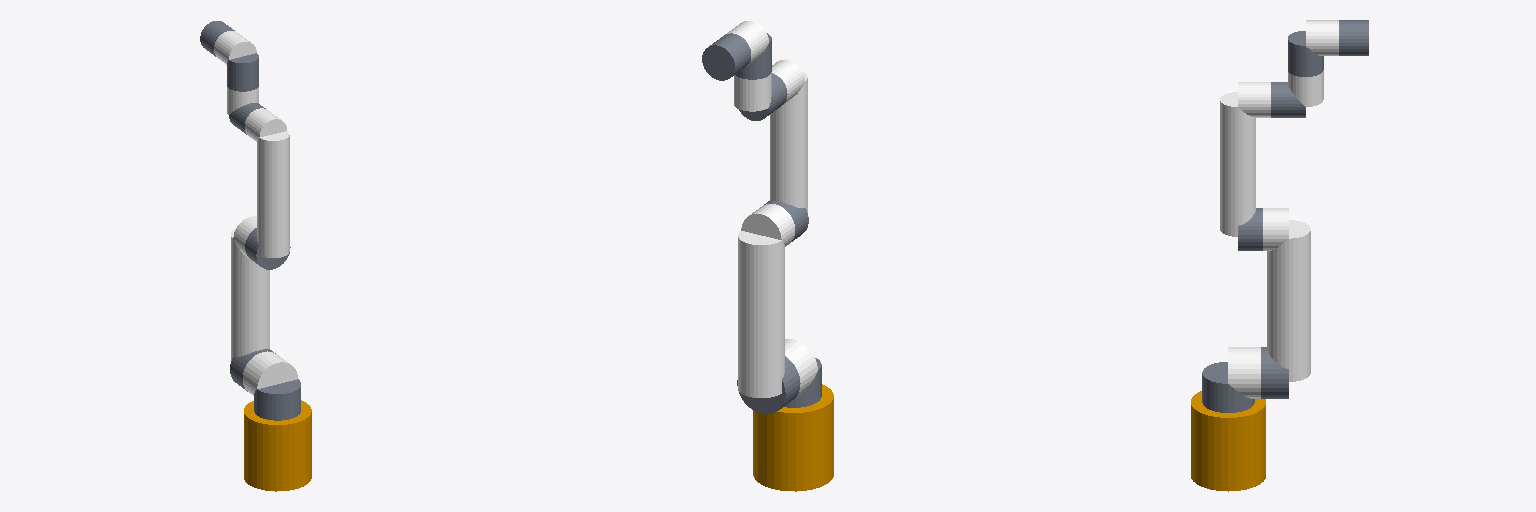
--- What the picture shows (computed from the rendered views, not written in the file) ---
Views: 3 orthographic renders of the robot side by side, from view 1: azimuth 30°, elevation 25°; view 2: azimuth 150°, elevation 25°; view 3: azimuth 270°, elevation 25°.
Robot: chin_arm — 29 links, 28 joints (6 revolute, 22 fixed); root link chin_link_0; default pose: every joint at zero.
Visible links, largest first — view 1: chin_link_0, chin_link_7, chin_link_4, chin_link_1, chin_link_2, chin_link_11, chin_link_8, chin_link_12, chin_link_6, chin_link_13, chin_link_10; view 2: chin_link_4, chin_link_0, chin_link_7, chin_link_13, chin_link_5, chin_link_10, chin_link_3, chin_link_2, chin_link_12, chin_link_8, chin_link_9, chin_link_11 (+2 smaller); view 3: chin_link_0, chin_link_4, chin_link_7, chin_link_1, chin_link_2, chin_link_11, chin_link_12, chin_link_8, chin_link_3, chin_link_13, chin_link_5, chin_link_9 (+2 smaller).
Boxes of the visible links, x1=… form: chin_link_0: x1=244, y1=400, x2=311, y2=491; chin_link_7: x1=257, y1=131, x2=289, y2=257; chin_link_4: x1=231, y1=229, x2=269, y2=360; chin_link_1: x1=254, y1=379, x2=300, y2=420; chin_link_2: x1=243, y1=351, x2=297, y2=395; chin_link_11: x1=227, y1=53, x2=258, y2=91; chin_link_8: x1=245, y1=108, x2=286, y2=141; chin_link_12: x1=214, y1=31, x2=256, y2=64; chin_link_6: x1=245, y1=228, x2=290, y2=269; chin_link_13: x1=200, y1=21, x2=234, y2=56; chin_link_10: x1=227, y1=87, x2=258, y2=114; chin_link_4: x1=738, y1=231, x2=784, y2=397; chin_link_0: x1=753, y1=384, x2=833, y2=491; chin_link_7: x1=770, y1=72, x2=807, y2=212; chin_link_13: x1=702, y1=33, x2=750, y2=80; chin_link_5: x1=741, y1=204, x2=794, y2=246; chin_link_10: x1=734, y1=72, x2=771, y2=111; chin_link_3: x1=737, y1=356, x2=800, y2=414; chin_link_2: x1=785, y1=339, x2=817, y2=397; chin_link_12: x1=725, y1=21, x2=768, y2=65; chin_link_8: x1=772, y1=59, x2=804, y2=104; chin_link_9: x1=739, y1=73, x2=787, y2=120; chin_link_11: x1=735, y1=33, x2=771, y2=79; chin_link_0: x1=1191, y1=391, x2=1265, y2=491; chin_link_4: x1=1267, y1=220, x2=1310, y2=381; chin_link_7: x1=1220, y1=92, x2=1255, y2=236; chin_link_1: x1=1202, y1=362, x2=1254, y2=412; chin_link_2: x1=1228, y1=347, x2=1260, y2=398; chin_link_11: x1=1288, y1=31, x2=1323, y2=76; chin_link_12: x1=1306, y1=20, x2=1338, y2=55; chin_link_8: x1=1238, y1=82, x2=1270, y2=117; chin_link_3: x1=1261, y1=347, x2=1288, y2=398; chin_link_13: x1=1339, y1=20, x2=1368, y2=55; chin_link_5: x1=1263, y1=208, x2=1288, y2=250; chin_link_9: x1=1271, y1=82, x2=1305, y2=117.
Size in the robot's own frame: 0.19 by 0.449 by 1.26 metres.
Geometry: primitives only (box / cylinder / sphere), no mesh files.

robot.urdf — chin_arm:
<?xml version="1.0" encoding="utf-8" ?>
<!-- =================================================================================== -->
<!-- |    This document was autogenerated by xacro from [local-path]/catkin_workspace/src/chin_arm/chin_description/urdf/chin_arm_frame.urdf.xacro | -->
<!-- |    EDITING THIS FILE BY HAND IS NOT RECOMMENDED                                 | -->
<!-- =================================================================================== -->
<robot name="chin_arm">
    <material name="white">
        <color rgba="1 1 1 1" />
    </material>
    <material name="blue">
        <color rgba="0 0 0.8 1" />
    </material>
    <material name="silver">
        <color rgba="0.51 0.54 0.59 1" />
    </material>
    <!--sub-link defining detailed meshes for collision with environment-->
    <link name="chin_link_0">
        <visual>
            <origin rpy="0 0 0" xyz="0 0 0.102" />
            <geometry>
                <cylinder length="0.204" radius="0.095" />
            </geometry>
            <material name="black" />
        </visual>
        <collision>
            <origin rpy="0 0 0" xyz="0 0 0.102" />
            <geometry>
                <cylinder length="0.204" radius="0.095" />
            </geometry>
        </collision>
        <inertial>
            <mass value="0.1" />
            <origin xyz="0 0 0" rpy="0 0 0" />
            <inertia ixx="0.03" iyy="0.03" izz="0.03" ixy="0.0" ixz="0.0" iyz="0.0" />
        </inertial>
    </link>
    <!--sub-link defining coarse geometries of real robot's internal self-collision-->
    <link name="chin_link_0_sc" />
    <!--fixed joint between both sub-links-->
    <joint name="chin_link_0_sc_joint" type="fixed">
        <origin rpy="0 0 0" />
        <parent link="chin_link_0" />
        <child link="chin_link_0_sc" />
    </joint>
    <!--sub-link defining detailed meshes for collision with environment-->
    <link name="chin_link_1">
        <visual>
            <origin rpy="0 0 0" xyz="0 0 0.0405" />
            <geometry>
                <cylinder length="0.081" radius="0.066" />
            </geometry>
            <material name="silver" />
        </visual>
        <collision>
            <origin rpy="0 0 0" xyz="0 0 0.0405" />
            <geometry>
                <cylinder length="0.081" radius="0.066" />
            </geometry>
        </collision>
        <inertial>
            <mass value="0.1" />
            <origin xyz="0 0 0" rpy="0 0 0" />
            <inertia ixx="0.03" iyy="0.03" izz="0.03" ixy="0.0" ixz="0.0" iyz="0.0" />
        </inertial>
    </link>
    <!--sub-link defining coarse geometries of real robot's internal self-collision-->
    <link name="chin_link_1_sc">
        <collision>
            <origin rpy="0 0 0" xyz="0 0 0.0405" />
            <geometry>
                <cylinder length="0.081" radius="0.066" />
            </geometry>
        </collision>
        <collision>
            <origin xyz="0 0 0.081" />
            <geometry>
                <sphere radius="0.066" />
            </geometry>
        </collision>
        <collision>
            <origin xyz="0 0 0.0" />
            <geometry>
                <sphere radius="0.066" />
            </geometry>
        </collision>
        <inertial>
            <mass value="0.1" />
            <origin xyz="0 0 0" rpy="0 0 0" />
            <inertia ixx="0.03" iyy="0.03" izz="0.03" ixy="0.0" ixz="0.0" iyz="0.0" />
        </inertial>
    </link>
    <!--fixed joint between both sub-links-->
    <joint name="chin_link_1_sc_joint" type="fixed">
        <origin rpy="0 0 0" />
        <parent link="chin_link_1" />
        <child link="chin_link_1_sc" />
    </joint>
    <joint name="chin_joint_1" type="revolute">
        <safety_controller k_position="100.0" k_velocity="40.0" soft_lower_limit="-3.14159265359" soft_upper_limit="3.14159265359" />
        <origin rpy="0 0 0" xyz="0 0 0.204" />
        <parent link="chin_link_0" />
        <child link="chin_link_1" />
        <axis xyz="0 0 1" />
        <limit effort="0" lower="-3.14159265359" upper="3.14159265359" velocity="0" />
        <dynamics D="1" K="7000" damping="0.003" friction="0.0" mu_coulomb="0" mu_viscous="16" />
    </joint>
    <!--sub-link defining detailed meshes for collision with environment-->
    <link name="chin_link_2">
        <visual>
            <origin rpy="0 0 0" xyz="0 0 0.041" />
            <geometry>
                <cylinder length="0.082" radius="0.066" />
            </geometry>
            <material name="white" />
        </visual>
        <collision>
            <origin rpy="0 0 0" xyz="0 0 0.041" />
            <geometry>
                <cylinder length="0.082" radius="0.066" />
            </geometry>
        </collision>
        <inertial>
            <mass value="0.1" />
            <origin xyz="0 0 0" rpy="0 0 0" />
            <inertia ixx="0.03" iyy="0.03" izz="0.03" ixy="0.0" ixz="0.0" iyz="0.0" />
        </inertial>
    </link>
    <!--sub-link defining coarse geometries of real robot's internal self-collision-->
    <link name="chin_link_2_sc">
        <collision>
            <origin rpy="0 0 0" xyz="0 0 0.041" />
            <geometry>
                <cylinder length="0.082" radius="0.066" />
            </geometry>
        </collision>
        <collision>
            <origin xyz="0 0 0.082" />
            <geometry>
                <sphere radius="0.066" />
            </geometry>
        </collision>
        <collision>
            <origin xyz="0 0 0.0" />
            <geometry>
                <sphere radius="0.066" />
            </geometry>
        </collision>
        <inertial>
            <mass value="0.1" />
            <origin xyz="0 0 0" rpy="0 0 0" />
            <inertia ixx="0.03" iyy="0.03" izz="0.03" ixy="0.0" ixz="0.0" iyz="0.0" />
        </inertial>
    </link>
    <!--fixed joint between both sub-links-->
    <joint name="chin_link_2_sc_joint" type="fixed">
        <origin rpy="0 0 0" />
        <parent link="chin_link_2" />
        <child link="chin_link_2_sc" />
    </joint>
    <joint name="chin_joint_2" type="fixed">
        <origin rpy="-1.57079632679 0 0" xyz="0 0 0.081" />
        <parent link="chin_link_1" />
        <child link="chin_link_2" />
        <axis xyz="0 0 1" />
        <dynamics D="1" K="7000" damping="0.003" friction="0.0" mu_coulomb="0" mu_viscous="16" />
    </joint>
    <!--sub-link defining detailed meshes for collision with environment-->
    <link name="chin_link_3">
        <visual>
            <origin rpy="0 0 0" xyz="0 0 0.035" />
            <geometry>
                <cylinder length="0.07" radius="0.066" />
            </geometry>
            <material name="silver" />
        </visual>
        <collision>
            <origin rpy="0 0 0" xyz="0 0 0.035" />
            <geometry>
                <cylinder length="0.07" radius="0.066" />
            </geometry>
        </collision>
        <inertial>
            <mass value="0.1" />
            <origin xyz="0 0 0" rpy="0 0 0" />
            <inertia ixx="0.03" iyy="0.03" izz="0.03" ixy="0.0" ixz="0.0" iyz="0.0" />
        </inertial>
    </link>
    <!--sub-link defining coarse geometries of real robot's internal self-collision-->
    <link name="chin_link_3_sc">
        <collision>
            <origin rpy="0 0 0" xyz="0 0 0.035" />
            <geometry>
                <cylinder length="0.07" radius="0.066" />
            </geometry>
        </collision>
        <collision>
            <origin xyz="0 0 0.07" />
            <geometry>
                <sphere radius="0.066" />
            </geometry>
        </collision>
        <collision>
            <origin xyz="0 0 0.0" />
            <geometry>
                <sphere radius="0.066" />
            </geometry>
        </collision>
        <inertial>
            <mass value="0.1" />
            <origin xyz="0 0 0" rpy="0 0 0" />
            <inertia ixx="0.03" iyy="0.03" izz="0.03" ixy="0.0" ixz="0.0" iyz="0.0" />
        </inertial>
    </link>
    <!--fixed joint between both sub-links-->
    <joint name="chin_link_3_sc_joint" type="fixed">
        <origin rpy="0 0 0" />
        <parent link="chin_link_3" />
        <child link="chin_link_3_sc" />
    </joint>
    <joint name="chin_joint_3" type="revolute">
        <safety_controller k_position="100.0" k_velocity="40.0" soft_lower_limit="-3.14159265359" soft_upper_limit="3.14159265359" />
        <origin rpy="0 0 0" xyz="0 0 0.082" />
        <parent link="chin_link_2" />
        <child link="chin_link_3" />
        <axis xyz="0 0 1" />
        <limit effort="0" lower="-3.14159265359" upper="3.14159265359" velocity="0" />
        <dynamics D="1" K="7000" damping="0.003" friction="0.0" mu_coulomb="0" mu_viscous="16" />
    </joint>
    <!--sub-link defining detailed meshes for collision with environment-->
    <link name="chin_link_4">
        <visual>
            <origin rpy="0 0 0" xyz="0 0 0.199" />
            <geometry>
                <cylinder length="0.398" radius="0.055" />
            </geometry>
            <material name="white" />
        </visual>
        <collision>
            <origin rpy="0 0 0" xyz="0 0 0.199" />
            <geometry>
                <cylinder length="0.398" radius="0.055" />
            </geometry>
        </collision>
        <inertial>
            <mass value="0.1" />
            <origin xyz="0 0 0" rpy="0 0 0" />
            <inertia ixx="0.03" iyy="0.03" izz="0.03" ixy="0.0" ixz="0.0" iyz="0.0" />
        </inertial>
    </link>
    <!--sub-link defining coarse geometries of real robot's internal self-collision-->
    <link name="chin_link_4_sc">
        <collision>
            <origin rpy="0 0 0" xyz="0 0 0.199" />
            <geometry>
                <cylinder length="0.398" radius="0.055" />
            </geometry>
        </collision>
        <collision>
            <origin xyz="0 0 0.398" />
            <geometry>
                <sphere radius="0.055" />
            </geometry>
        </collision>
        <collision>
            <origin xyz="0 0 0.0" />
            <geometry>
                <sphere radius="0.055" />
            </geometry>
        </collision>
        <inertial>
            <mass value="0.1" />
            <origin xyz="0 0 0" rpy="0 0 0" />
            <inertia ixx="0.03" iyy="0.03" izz="0.03" ixy="0.0" ixz="0.0" iyz="0.0" />
        </inertial>
    </link>
    <!--fixed joint between both sub-links-->
    <joint name="chin_link_4_sc_joint" type="fixed">
        <origin rpy="0 0 0" />
        <parent link="chin_link_4" />
        <child link="chin_link_4_sc" />
    </joint>
    <joint name="chin_joint_4" type="fixed">
        <origin rpy="1.57079632679 0 0" xyz="0 0 0.07" />
        <parent link="chin_link_3" />
        <child link="chin_link_4" />
        <axis xyz="0 0 1" />
        <dynamics D="1" K="7000" damping="0.003" friction="0.0" mu_coulomb="0" mu_viscous="16" />
    </joint>
    <!--sub-link defining detailed meshes for collision with environment-->
    <link name="chin_link_5">
        <visual>
            <origin rpy="0 0 0" xyz="0 0 0.0325" />
            <geometry>
                <cylinder length="0.065" radius="0.055" />
            </geometry>
            <material name="white" />
        </visual>
        <collision>
            <origin rpy="0 0 0" xyz="0 0 0.0325" />
            <geometry>
                <cylinder length="0.065" radius="0.055" />
            </geometry>
        </collision>
        <inertial>
            <mass value="0.1" />
            <origin xyz="0 0 0" rpy="0 0 0" />
            <inertia ixx="0.03" iyy="0.03" izz="0.03" ixy="0.0" ixz="0.0" iyz="0.0" />
        </inertial>
    </link>
    <!--sub-link defining coarse geometries of real robot's internal self-collision-->
    <link name="chin_link_5_sc">
        <collision>
            <origin rpy="0 0 0" xyz="0 0 0.0325" />
            <geometry>
                <cylinder length="0.065" radius="0.055" />
            </geometry>
        </collision>
        <collision>
            <origin xyz="0 0 0.065" />
            <geometry>
                <sphere radius="0.055" />
            </geometry>
        </collision>
        <collision>
            <origin xyz="0 0 0.0" />
            <geometry>
                <sphere radius="0.055" />
            </geometry>
        </collision>
        <inertial>
            <mass value="0.1" />
            <origin xyz="0 0 0" rpy="0 0 0" />
            <inertia ixx="0.03" iyy="0.03" izz="0.03" ixy="0.0" ixz="0.0" iyz="0.0" />
        </inertial>
    </link>
    <!--fixed joint between both sub-links-->
    <joint name="chin_link_5_sc_joint" type="fixed">
        <origin rpy="0 0 0" />
        <parent link="chin_link_5" />
        <child link="chin_link_5_sc" />
    </joint>
    <joint name="chin_joint_5" type="fixed">
        <origin rpy="1.57079632679 0 0" xyz="0 0 0.398" />
        <parent link="chin_link_4" />
        <child link="chin_link_5" />
        <axis xyz="0 0 1" />
        <dynamics D="1" K="7000" damping="0.003" friction="0.0" mu_coulomb="0" mu_viscous="16" />
    </joint>
    <!--sub-link defining detailed meshes for collision with environment-->
    <link name="chin_link_6">
        <visual>
            <origin rpy="0 0 0" xyz="0 0 0.0315" />
            <geometry>
                <cylinder length="0.063" radius="0.055" />
            </geometry>
            <material name="silver" />
        </visual>
        <collision>
            <origin rpy="0 0 0" xyz="0 0 0.0315" />
            <geometry>
                <cylinder length="0.063" radius="0.055" />
            </geometry>
        </collision>
        <inertial>
            <mass value="0.1" />
            <origin xyz="0 0 0" rpy="0 0 0" />
            <inertia ixx="0.03" iyy="0.03" izz="0.03" ixy="0.0" ixz="0.0" iyz="0.0" />
        </inertial>
    </link>
    <!--sub-link defining coarse geometries of real robot's internal self-collision-->
    <link name="chin_link_6_sc">
        <collision>
            <origin rpy="0 0 0" xyz="0 0 0.0315" />
            <geometry>
                <cylinder length="0.063" radius="0.055" />
            </geometry>
        </collision>
        <collision>
            <origin xyz="0 0 0.063" />
            <geometry>
                <sphere radius="0.055" />
            </geometry>
        </collision>
        <collision>
            <origin xyz="0 0 0.0" />
            <geometry>
                <sphere radius="0.055" />
            </geometry>
        </collision>
        <inertial>
            <mass value="0.1" />
            <origin xyz="0 0 0" rpy="0 0 0" />
            <inertia ixx="0.03" iyy="0.03" izz="0.03" ixy="0.0" ixz="0.0" iyz="0.0" />
        </inertial>
    </link>
    <!--fixed joint between both sub-links-->
    <joint name="chin_link_6_sc_joint" type="fixed">
        <origin rpy="0 0 0" />
        <parent link="chin_link_6" />
        <child link="chin_link_6_sc" />
    </joint>
    <joint name="chin_joint_6" type="revolute">
        <safety_controller k_position="100.0" k_velocity="40.0" soft_lower_limit="-2.7925" soft_upper_limit="2.7925" />
        <origin rpy="0 0 0" xyz="0 0 0.065" />
        <parent link="chin_link_5" />
        <child link="chin_link_6" />
        <axis xyz="0 0 1" />
        <limit effort="0" lower="-2.7925" upper="2.7925" velocity="0" />
        <dynamics D="1" K="7000" damping="0.003" friction="0.0" mu_coulomb="0" mu_viscous="16" />
    </joint>
    <!--sub-link defining detailed meshes for collision with environment-->
    <link name="chin_link_7">
        <visual>
            <origin rpy="0 0 0" xyz="0 0 0.18" />
            <geometry>
                <cylinder length="0.36" radius="0.045" />
            </geometry>
            <material name="white" />
        </visual>
        <collision>
            <origin rpy="0 0 0" xyz="0 0 0.18" />
            <geometry>
                <cylinder length="0.36" radius="0.045" />
            </geometry>
        </collision>
        <inertial>
            <mass value="0.1" />
            <origin xyz="0 0 0" rpy="0 0 0" />
            <inertia ixx="0.03" iyy="0.03" izz="0.03" ixy="0.0" ixz="0.0" iyz="0.0" />
        </inertial>
    </link>
    <!--sub-link defining coarse geometries of real robot's internal self-collision-->
    <link name="chin_link_7_sc">
        <collision>
            <origin rpy="0 0 0" xyz="0 0 0.18" />
            <geometry>
                <cylinder length="0.36" radius="0.045" />
            </geometry>
        </collision>
        <collision>
            <origin xyz="0 0 0.36" />
            <geometry>
                <sphere radius="0.045" />
            </geometry>
        </collision>
        <collision>
            <origin xyz="0 0 0.0" />
            <geometry>
                <sphere radius="0.045" />
            </geometry>
        </collision>
        <inertial>
            <mass value="0.1" />
            <origin xyz="0 0 0" rpy="0 0 0" />
            <inertia ixx="0.03" iyy="0.03" izz="0.03" ixy="0.0" ixz="0.0" iyz="0.0" />
        </inertial>
    </link>
    <!--fixed joint between both sub-links-->
    <joint name="chin_link_7_sc_joint" type="fixed">
        <origin rpy="0 0 0" />
        <parent link="chin_link_7" />
        <child link="chin_link_7_sc" />
    </joint>
    <joint name="chin_joint_7" type="fixed">
        <origin rpy="-1.57079632679 0 0" xyz="0 0 0.063" />
        <parent link="chin_link_6" />
        <child link="chin_link_7" />
        <axis xyz="0 0 1" />
        <dynamics D="1" K="7000" damping="0.003" friction="0.0" mu_coulomb="0" mu_viscous="16" />
    </joint>
    <!--sub-link defining detailed meshes for collision with environment-->
    <link name="chin_link_8">
        <visual>
            <origin rpy="0 0 0" xyz="0 0 0.0415" />
            <geometry>
                <cylinder length="0.083" radius="0.045" />
            </geometry>
            <material name="white" />
        </visual>
        <collision>
            <origin rpy="0 0 0" xyz="0 0 0.0415" />
            <geometry>
                <cylinder length="0.083" radius="0.045" />
            </geometry>
        </collision>
        <inertial>
            <mass value="0.1" />
            <origin xyz="0 0 0" rpy="0 0 0" />
            <inertia ixx="0.03" iyy="0.03" izz="0.03" ixy="0.0" ixz="0.0" iyz="0.0" />
        </inertial>
    </link>
    <!--sub-link defining coarse geometries of real robot's internal self-collision-->
    <link name="chin_link_8_sc">
        <collision>
            <origin rpy="0 0 0" xyz="0 0 0.0415" />
            <geometry>
                <cylinder length="0.083" radius="0.045" />
            </geometry>
        </collision>
        <collision>
            <origin xyz="0 0 0.083" />
            <geometry>
                <sphere radius="0.045" />
            </geometry>
        </collision>
        <collision>
            <origin xyz="0 0 0.0" />
            <geometry>
                <sphere radius="0.045" />
            </geometry>
        </collision>
        <inertial>
            <mass value="0.1" />
            <origin xyz="0 0 0" rpy="0 0 0" />
            <inertia ixx="0.03" iyy="0.03" izz="0.03" ixy="0.0" ixz="0.0" iyz="0.0" />
        </inertial>
    </link>
    <!--fixed joint between both sub-links-->
    <joint name="chin_link_8_sc_joint" type="fixed">
        <origin rpy="0 0 0" />
        <parent link="chin_link_8" />
        <child link="chin_link_8_sc" />
    </joint>
    <joint name="chin_joint_8" type="fixed">
        <origin rpy="-1.57079632679 0 0" xyz="0 0 0.36" />
        <parent link="chin_link_7" />
        <child link="chin_link_8" />
        <axis xyz="0 0 1" />
        <dynamics D="1" K="7000" damping="0.003" friction="0.0" mu_coulomb="0" mu_viscous="16" />
    </joint>
    <!--sub-link defining detailed meshes for collision with environment-->
    <link name="chin_link_9">
        <visual>
            <origin rpy="0 0 0" xyz="0 0 0.0435" />
            <geometry>
                <cylinder length="0.087" radius="0.045" />
            </geometry>
            <material name="silver" />
        </visual>
        <collision>
            <origin rpy="0 0 0" xyz="0 0 0.0435" />
            <geometry>
                <cylinder length="0.087" radius="0.045" />
            </geometry>
        </collision>
        <inertial>
            <mass value="0.1" />
            <origin xyz="0 0 0" rpy="0 0 0" />
            <inertia ixx="0.03" iyy="0.03" izz="0.03" ixy="0.0" ixz="0.0" iyz="0.0" />
        </inertial>
    </link>
    <!--sub-link defining coarse geometries of real robot's internal self-collision-->
    <link name="chin_link_9_sc">
        <collision>
            <origin rpy="0 0 0" xyz="0 0 0.0435" />
            <geometry>
                <cylinder length="0.087" radius="0.045" />
            </geometry>
        </collision>
        <collision>
            <origin xyz="0 0 0.087" />
            <geometry>
                <sphere radius="0.045" />
            </geometry>
        </collision>
        <collision>
            <origin xyz="0 0 0.0" />
            <geometry>
                <sphere radius="0.045" />
            </geometry>
        </collision>
        <inertial>
            <mass value="0.1" />
            <origin xyz="0 0 0" rpy="0 0 0" />
            <inertia ixx="0.03" iyy="0.03" izz="0.03" ixy="0.0" ixz="0.0" iyz="0.0" />
        </inertial>
    </link>
    <!--fixed joint between both sub-links-->
    <joint name="chin_link_9_sc_joint" type="fixed">
        <origin rpy="0 0 0" />
        <parent link="chin_link_9" />
        <child link="chin_link_9_sc" />
    </joint>
    <joint name="chin_joint_9" type="revolute">
        <safety_controller k_position="100.0" k_velocity="40.0" soft_lower_limit="-3.14159265359" soft_upper_limit="3.14159265359" />
        <origin rpy="0 0 0" xyz="0 0 0.083" />
        <parent link="chin_link_8" />
        <child link="chin_link_9" />
        <axis xyz="0 0 1" />
        <limit effort="0" lower="-3.14159265359" upper="3.14159265359" velocity="0" />
        <dynamics D="1" K="7000" damping="0.003" friction="0.0" mu_coulomb="0" mu_viscous="16" />
    </joint>
    <!--sub-link defining detailed meshes for collision with environment-->
    <link name="chin_link_10">
        <visual>
            <origin rpy="0 0 0" xyz="0 0 0.0415" />
            <geometry>
                <cylinder length="0.083" radius="0.045" />
            </geometry>
            <material name="white" />
        </visual>
        <collision>
            <origin rpy="0 0 0" xyz="0 0 0.0415" />
            <geometry>
                <cylinder length="0.083" radius="0.045" />
            </geometry>
        </collision>
        <inertial>
            <mass value="0.1" />
            <origin xyz="0 0 0" rpy="0 0 0" />
            <inertia ixx="0.03" iyy="0.03" izz="0.03" ixy="0.0" ixz="0.0" iyz="0.0" />
        </inertial>
    </link>
    <!--sub-link defining coarse geometries of real robot's internal self-collision-->
    <link name="chin_link_10_sc">
        <collision>
            <origin rpy="0 0 0" xyz="0 0 0.0415" />
            <geometry>
                <cylinder length="0.083" radius="0.045" />
            </geometry>
        </collision>
        <collision>
            <origin xyz="0 0 0.083" />
            <geometry>
                <sphere radius="0.045" />
            </geometry>
        </collision>
        <collision>
            <origin xyz="0 0 0.0" />
            <geometry>
                <sphere radius="0.045" />
            </geometry>
        </collision>
        <inertial>
            <mass value="0.1" />
            <origin xyz="0 0 0" rpy="0 0 0" />
            <inertia ixx="0.03" iyy="0.03" izz="0.03" ixy="0.0" ixz="0.0" iyz="0.0" />
        </inertial>
    </link>
    <!--fixed joint between both sub-links-->
    <joint name="chin_link_10_sc_joint" type="fixed">
        <origin rpy="0 0 0" />
        <parent link="chin_link_10" />
        <child link="chin_link_10_sc" />
    </joint>
    <joint name="chin_joint_10" type="fixed">
        <origin rpy="1.57079632679 0 0" xyz="0 0 0.087" />
        <parent link="chin_link_9" />
        <child link="chin_link_10" />
        <axis xyz="0 0 1" />
        <dynamics D="1" K="7000" damping="0.003" friction="0.0" mu_coulomb="0" mu_viscous="16" />
    </joint>
    <!--sub-link defining detailed meshes for collision with environment-->
    <link name="chin_link_11">
        <visual>
            <origin rpy="0 0 0" xyz="0 0 0.0435" />
            <geometry>
                <cylinder length="0.087" radius="0.045" />
            </geometry>
            <material name="silver" />
        </visual>
        <collision>
            <origin rpy="0 0 0" xyz="0 0 0.0435" />
            <geometry>
                <cylinder length="0.087" radius="0.045" />
            </geometry>
        </collision>
        <inertial>
            <mass value="0.1" />
            <origin xyz="0 0 0" rpy="0 0 0" />
            <inertia ixx="0.03" iyy="0.03" izz="0.03" ixy="0.0" ixz="0.0" iyz="0.0" />
        </inertial>
    </link>
    <!--sub-link defining coarse geometries of real robot's internal self-collision-->
    <link name="chin_link_11_sc">
        <collision>
            <origin rpy="0 0 0" xyz="0 0 0.0435" />
            <geometry>
                <cylinder length="0.087" radius="0.045" />
            </geometry>
        </collision>
        <collision>
            <origin xyz="0 0 0.087" />
            <geometry>
                <sphere radius="0.045" />
            </geometry>
        </collision>
        <collision>
            <origin xyz="0 0 0.0" />
            <geometry>
                <sphere radius="0.045" />
            </geometry>
        </collision>
        <inertial>
            <mass value="0.1" />
            <origin xyz="0 0 0" rpy="0 0 0" />
            <inertia ixx="0.03" iyy="0.03" izz="0.03" ixy="0.0" ixz="0.0" iyz="0.0" />
        </inertial>
    </link>
    <!--fixed joint between both sub-links-->
    <joint name="chin_link_11_sc_joint" type="fixed">
        <origin rpy="0 0 0" />
        <parent link="chin_link_11" />
        <child link="chin_link_11_sc" />
    </joint>
    <joint name="chin_joint_11" type="revolute">
        <safety_controller k_position="100.0" k_velocity="40.0" soft_lower_limit="-3.14159265359" soft_upper_limit="3.14159265359" />
        <origin rpy="0 0 0" xyz="0 0 0.083" />
        <parent link="chin_link_10" />
        <child link="chin_link_11" />
        <axis xyz="0 0 1" />
        <limit effort="0" lower="-3.14159265359" upper="3.14159265359" velocity="0" />
        <dynamics D="1" K="7000" damping="0.003" friction="0.0" mu_coulomb="0" mu_viscous="16" />
    </joint>
    <!--sub-link defining detailed meshes for collision with environment-->
    <link name="chin_link_12">
        <visual>
            <origin rpy="0 0 0" xyz="0 0 0.0415" />
            <geometry>
                <cylinder length="0.083" radius="0.045" />
            </geometry>
            <material name="white" />
        </visual>
        <collision>
            <origin rpy="0 0 0" xyz="0 0 0.0415" />
            <geometry>
                <cylinder length="0.083" radius="0.045" />
            </geometry>
        </collision>
        <inertial>
            <mass value="0.1" />
            <origin xyz="0 0 0" rpy="0 0 0" />
            <inertia ixx="0.03" iyy="0.03" izz="0.03" ixy="0.0" ixz="0.0" iyz="0.0" />
        </inertial>
    </link>
    <!--sub-link defining coarse geometries of real robot's internal self-collision-->
    <link name="chin_link_12_sc">
        <collision>
            <origin rpy="0 0 0" xyz="0 0 0.0415" />
            <geometry>
                <cylinder length="0.083" radius="0.045" />
            </geometry>
        </collision>
        <collision>
            <origin xyz="0 0 0.083" />
            <geometry>
                <sphere radius="0.045" />
            </geometry>
        </collision>
        <collision>
            <origin xyz="0 0 0.0" />
            <geometry>
                <sphere radius="0.045" />
            </geometry>
        </collision>
        <inertial>
            <mass value="0.1" />
            <origin xyz="0 0 0" rpy="0 0 0" />
            <inertia ixx="0.03" iyy="0.03" izz="0.03" ixy="0.0" ixz="0.0" iyz="0.0" />
        </inertial>
    </link>
    <!--fixed joint between both sub-links-->
    <joint name="chin_link_12_sc_joint" type="fixed">
        <origin rpy="0 0 0" />
        <parent link="chin_link_12" />
        <child link="chin_link_12_sc" />
    </joint>
    <joint name="chin_joint_12" type="fixed">
        <origin rpy="-1.57079632679 0 0" xyz="0 0 0.087" />
        <parent link="chin_link_11" />
        <child link="chin_link_12" />
        <axis xyz="0 0 1" />
        <dynamics D="1" K="7000" damping="0.003" friction="0.0" mu_coulomb="0" mu_viscous="16" />
    </joint>
    <!--sub-link defining detailed meshes for collision with environment-->
    <link name="chin_link_13">
        <visual>
            <origin rpy="0 0 0" xyz="0 0 0.0385" />
            <geometry>
                <cylinder length="0.077" radius="0.045" />
            </geometry>
            <material name="silver" />
        </visual>
        <collision>
            <origin rpy="0 0 0" xyz="0 0 0.0385" />
            <geometry>
                <cylinder length="0.077" radius="0.045" />
            </geometry>
        </collision>
        <inertial>
            <mass value="0.1" />
            <origin xyz="0 0 0" rpy="0 0 0" />
            <inertia ixx="0.03" iyy="0.03" izz="0.03" ixy="0.0" ixz="0.0" iyz="0.0" />
        </inertial>
    </link>
    <!--sub-link defining coarse geometries of real robot's internal self-collision-->
    <link name="chin_link_13_sc">
        <collision>
            <origin rpy="0 0 0" xyz="0 0 0.0385" />
            <geometry>
                <cylinder length="0.077" radius="0.045" />
            </geometry>
        </collision>
        <collision>
            <origin xyz="0 0 0.077" />
            <geometry>
                <sphere radius="0.045" />
            </geometry>
        </collision>
        <collision>
            <origin xyz="0 0 0.0" />
            <geometry>
                <sphere radius="0.045" />
            </geometry>
        </collision>
        <inertial>
            <mass value="0.1" />
            <origin xyz="0 0 0" rpy="0 0 0" />
            <inertia ixx="0.03" iyy="0.03" izz="0.03" ixy="0.0" ixz="0.0" iyz="0.0" />
        </inertial>
    </link>
    <!--fixed joint between both sub-links-->
    <joint name="chin_link_13_sc_joint" type="fixed">
        <origin rpy="0 0 0" />
        <parent link="chin_link_13" />
        <child link="chin_link_13_sc" />
    </joint>
    <joint name="chin_joint_13" type="revolute">
        <safety_controller k_position="100.0" k_velocity="40.0" soft_lower_limit="-3.14159265359" soft_upper_limit="3.14159265359" />
        <origin rpy="0 0 0" xyz="0 0 0.083" />
        <parent link="chin_link_12" />
        <child link="chin_link_13" />
        <axis xyz="0 0 1" />
        <limit effort="0" lower="-3.14159265359" upper="3.14159265359" velocity="0" />
        <dynamics D="1" K="7000" damping="0.003" friction="0.0" mu_coulomb="0" mu_viscous="16" />
    </joint>
    <!--link14 to link13-->
    <link name="chin_link_14" />
    <joint name="chin_joint_14" type="fixed">
        <origin rpy="0 0 -3.14159265359" xyz="0 0 0.077" />
        <parent link="chin_link_13" />
        <child link="chin_link_14" />
    </joint>
    <transmission name="trans_chin_joint_1">
        <type>transmission_interface/SimpleTransmission</type>
        <joint name="chin_joint_1">
            <hardwareInterface>hardware_interface/EffortJointInterface</hardwareInterface>
        </joint>
        <actuator name="chin_joint_1_motor">
            <hardwareInterface>hardware_interface/EffortJointInterface</hardwareInterface>
            <mechanicalReduction>1</mechanicalReduction>
        </actuator>
    </transmission>
    <transmission name="trans_chin_joint_3">
        <type>transmission_interface/SimpleTransmission</type>
        <joint name="chin_joint_3">
            <hardwareInterface>hardware_interface/EffortJointInterface</hardwareInterface>
        </joint>
        <actuator name="chin_joint_3_motor">
            <hardwareInterface>hardware_interface/EffortJointInterface</hardwareInterface>
            <mechanicalReduction>1</mechanicalReduction>
        </actuator>
    </transmission>
    <transmission name="trans_chin_joint_6">
        <type>transmission_interface/SimpleTransmission</type>
        <joint name="chin_joint_6">
            <hardwareInterface>hardware_interface/EffortJointInterface</hardwareInterface>
        </joint>
        <actuator name="chin_joint_6_motor">
            <hardwareInterface>hardware_interface/EffortJointInterface</hardwareInterface>
            <mechanicalReduction>1</mechanicalReduction>
        </actuator>
    </transmission>
    <transmission name="trans_chin_joint_9">
        <type>transmission_interface/SimpleTransmission</type>
        <joint name="chin_joint_9">
            <hardwareInterface>hardware_interface/EffortJointInterface</hardwareInterface>
        </joint>
        <actuator name="chin_joint_9_motor">
            <hardwareInterface>hardware_interface/EffortJointInterface</hardwareInterface>
            <mechanicalReduction>1</mechanicalReduction>
        </actuator>
    </transmission>
    <transmission name="trans_chin_joint_11">
        <type>transmission_interface/SimpleTransmission</type>
        <joint name="chin_joint_11">
            <hardwareInterface>hardware_interface/EffortJointInterface</hardwareInterface>
        </joint>
        <actuator name="chin_joint_11_motor">
            <hardwareInterface>hardware_interface/EffortJointInterface</hardwareInterface>
            <mechanicalReduction>1</mechanicalReduction>
        </actuator>
    </transmission>
    <transmission name="trans_chin_joint_13">
        <type>transmission_interface/SimpleTransmission</type>
        <joint name="chin_joint_13">
            <hardwareInterface>hardware_interface/EffortJointInterface</hardwareInterface>
        </joint>
        <actuator name="chin_joint_13_motor">
            <hardwareInterface>hardware_interface/EffortJointInterface</hardwareInterface>
            <mechanicalReduction>1</mechanicalReduction>
        </actuator>
    </transmission>
    <gazebo>
        <plugin name="gazebo_ros_control">
            <robotNamespace>/</robotNamespace>
        </plugin>
    </gazebo>
</robot>
